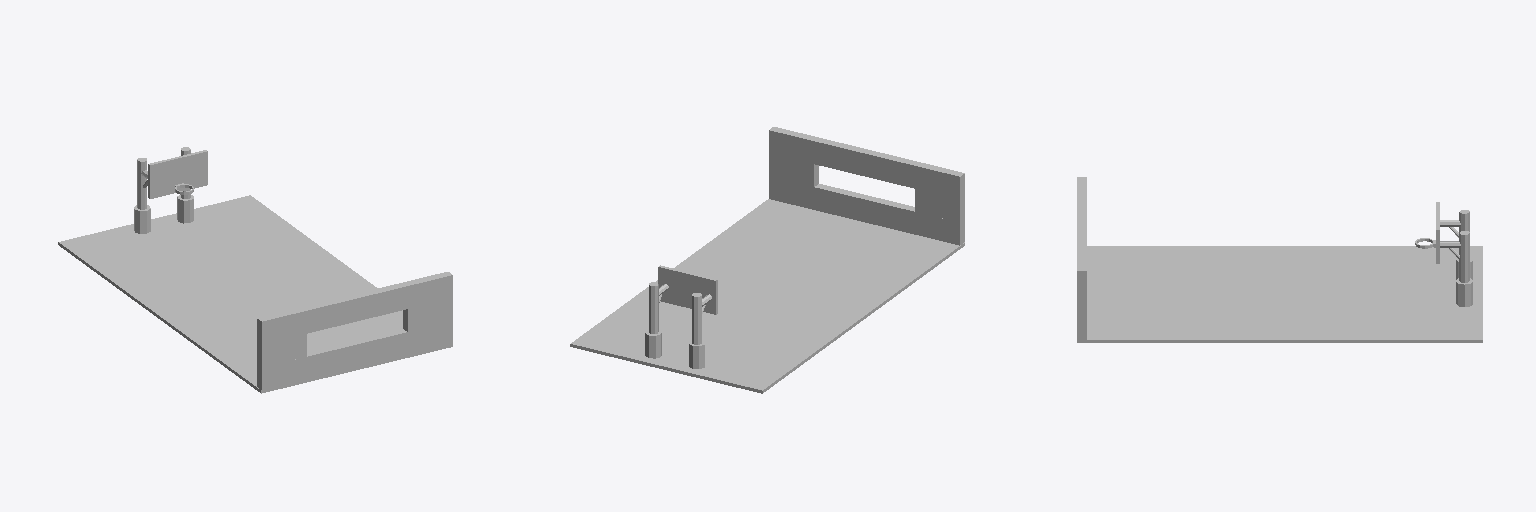
Rendered from fullBasket.obj.
The picture shows the model from 3 angles: view 1: azimuth 30°, elevation 25°; view 2: azimuth 150°, elevation 25°; view 3: azimuth 270°, elevation 25°; orthographic projection.
Visible parts, largest first — view 1: Cube, Cube.002, BasketBall_Board; view 2: Cube, Cube.002, BasketBall_Board; view 3: Cube, BasketBall_Board, Cube.002.
Part boxes in pixels (left/top/right/bottom): Cube: left=58, top=195, right=452, bottom=393; Cube.002: left=257, top=272, right=452, bottom=390; BasketBall_Board: left=134, top=147, right=207, bottom=233; Cube: left=570, top=199, right=964, bottom=393; Cube.002: left=769, top=127, right=964, bottom=245; BasketBall_Board: left=645, top=265, right=717, bottom=368; Cube: left=1077, top=246, right=1482, bottom=342; BasketBall_Board: left=1415, top=202, right=1472, bottom=306; Cube.002: left=1077, top=177, right=1086, bottom=339.
Bounding box in the file's own units: 11.08 × 4.45 × 20.28.